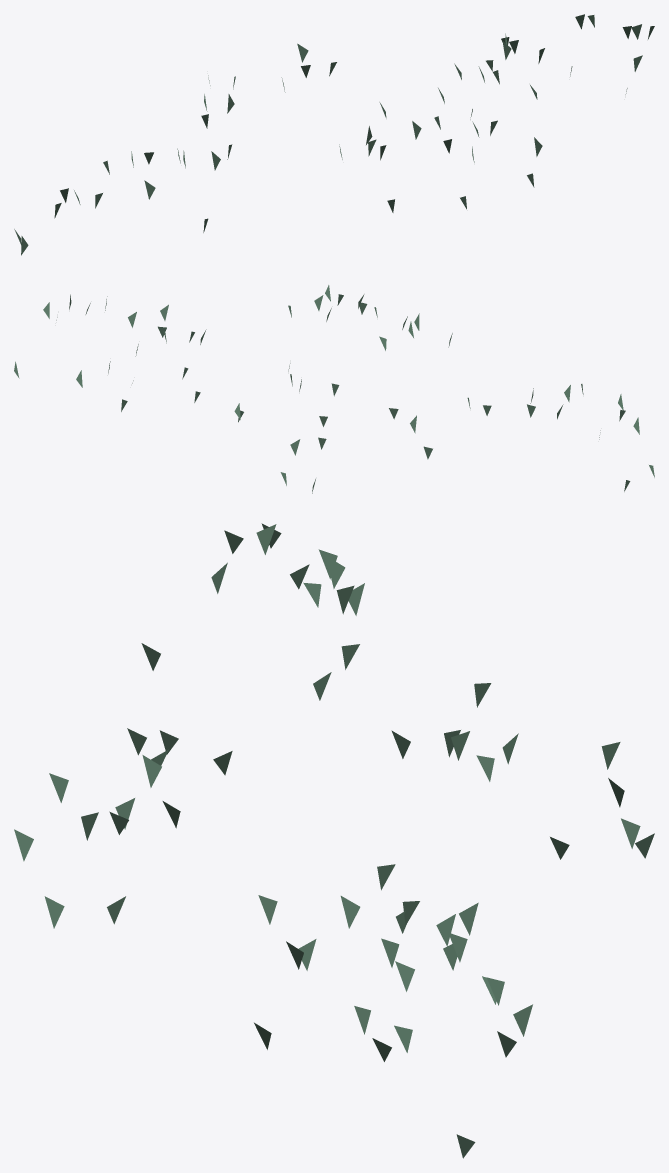
File: teaching3-vegetation-02-far.glb
3 renders of one model, top to bottom at view 1: azimuth 30°, elevation 25°; view 2: azimuth 150°, elevation 25°; view 3: azimuth 270°, elevation 25°, orthographic. The views are drawn at different scales.
Parts seen in each view (by area): view 1: shrubs.002; view 2: shrubs.002; view 3: shrubs.002.
Part boxes in pixels (left/top/right/bottom): shrubs.002: left=14, top=14, right=654, bottom=255; shrubs.002: left=14, top=285, right=654, bottom=493; shrubs.002: left=14, top=523, right=654, bottom=1158.
Size of the model in its own units: 11.29 by 1.59 by 5.56.
